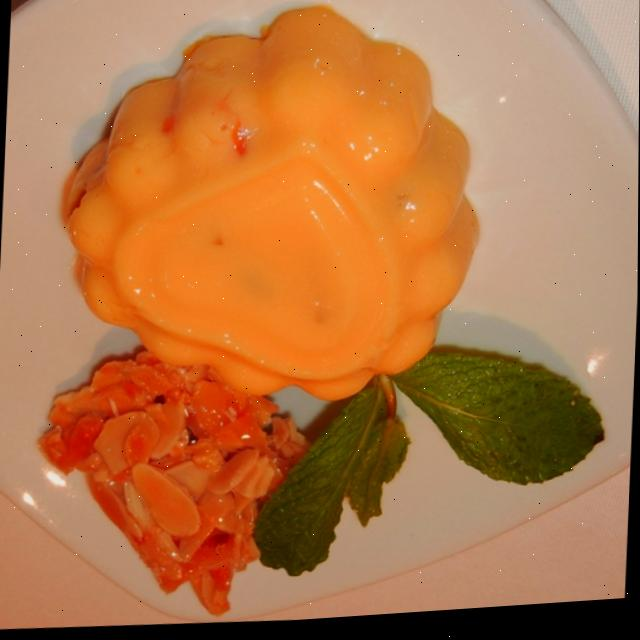蛋糕甜品: (32, 0, 625, 632)
